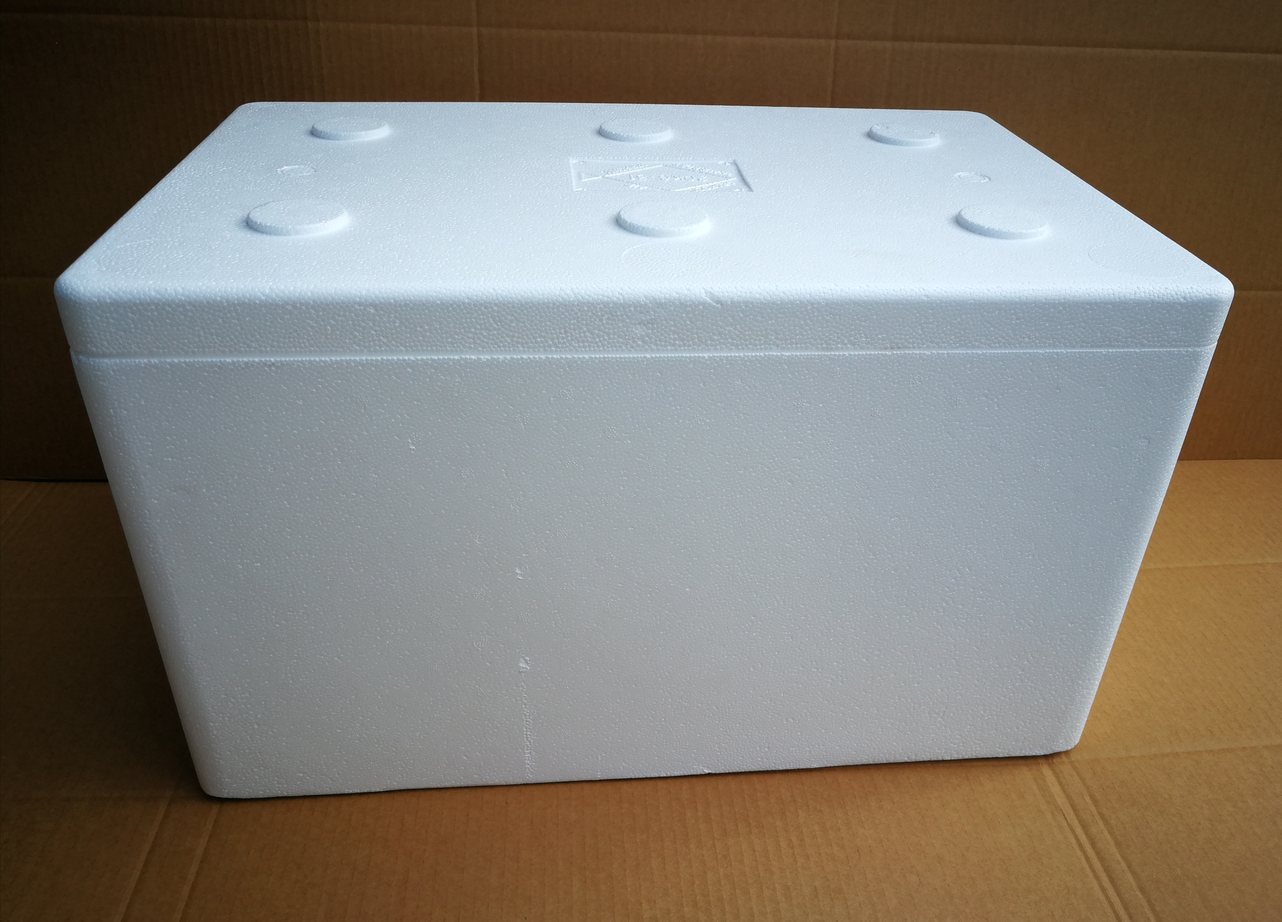Boxes: (56, 102, 1231, 797)
